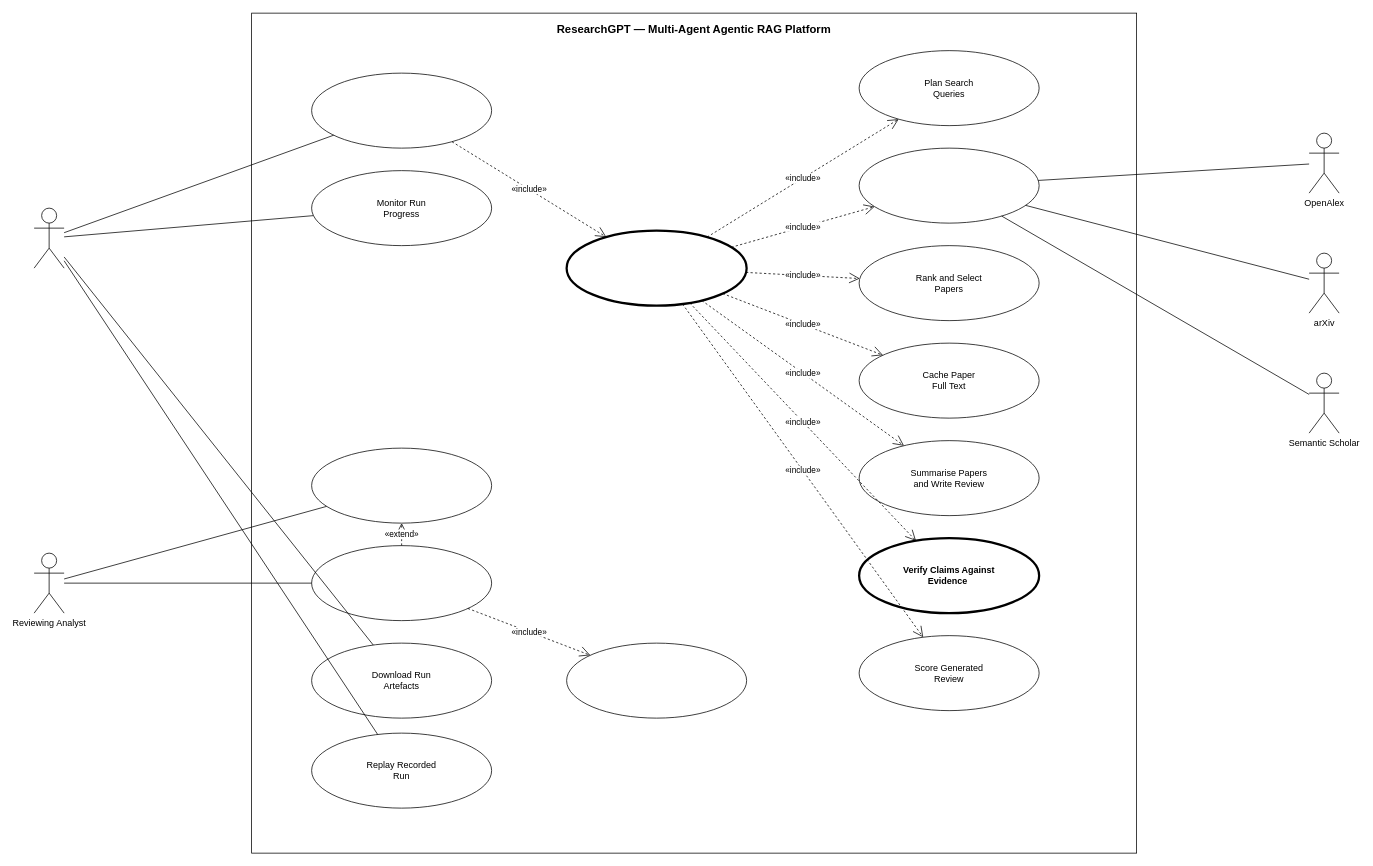
Some shapes in this 1373 by 866 pixel diagram are drawn without their labels. Here are the shapes that lost their labels. From the top down, the centre of each, then its label:
point (401, 110): Submit Research Question
point (948, 185): Retrieve Candidate Papers
point (48, 237): Researcher
point (656, 267): Generate Literature Review
point (401, 485): Inspect Claim Evidence
point (401, 583): Override Dropped Claim
point (656, 680): Record Verdict in Audit Trace & Retrain
